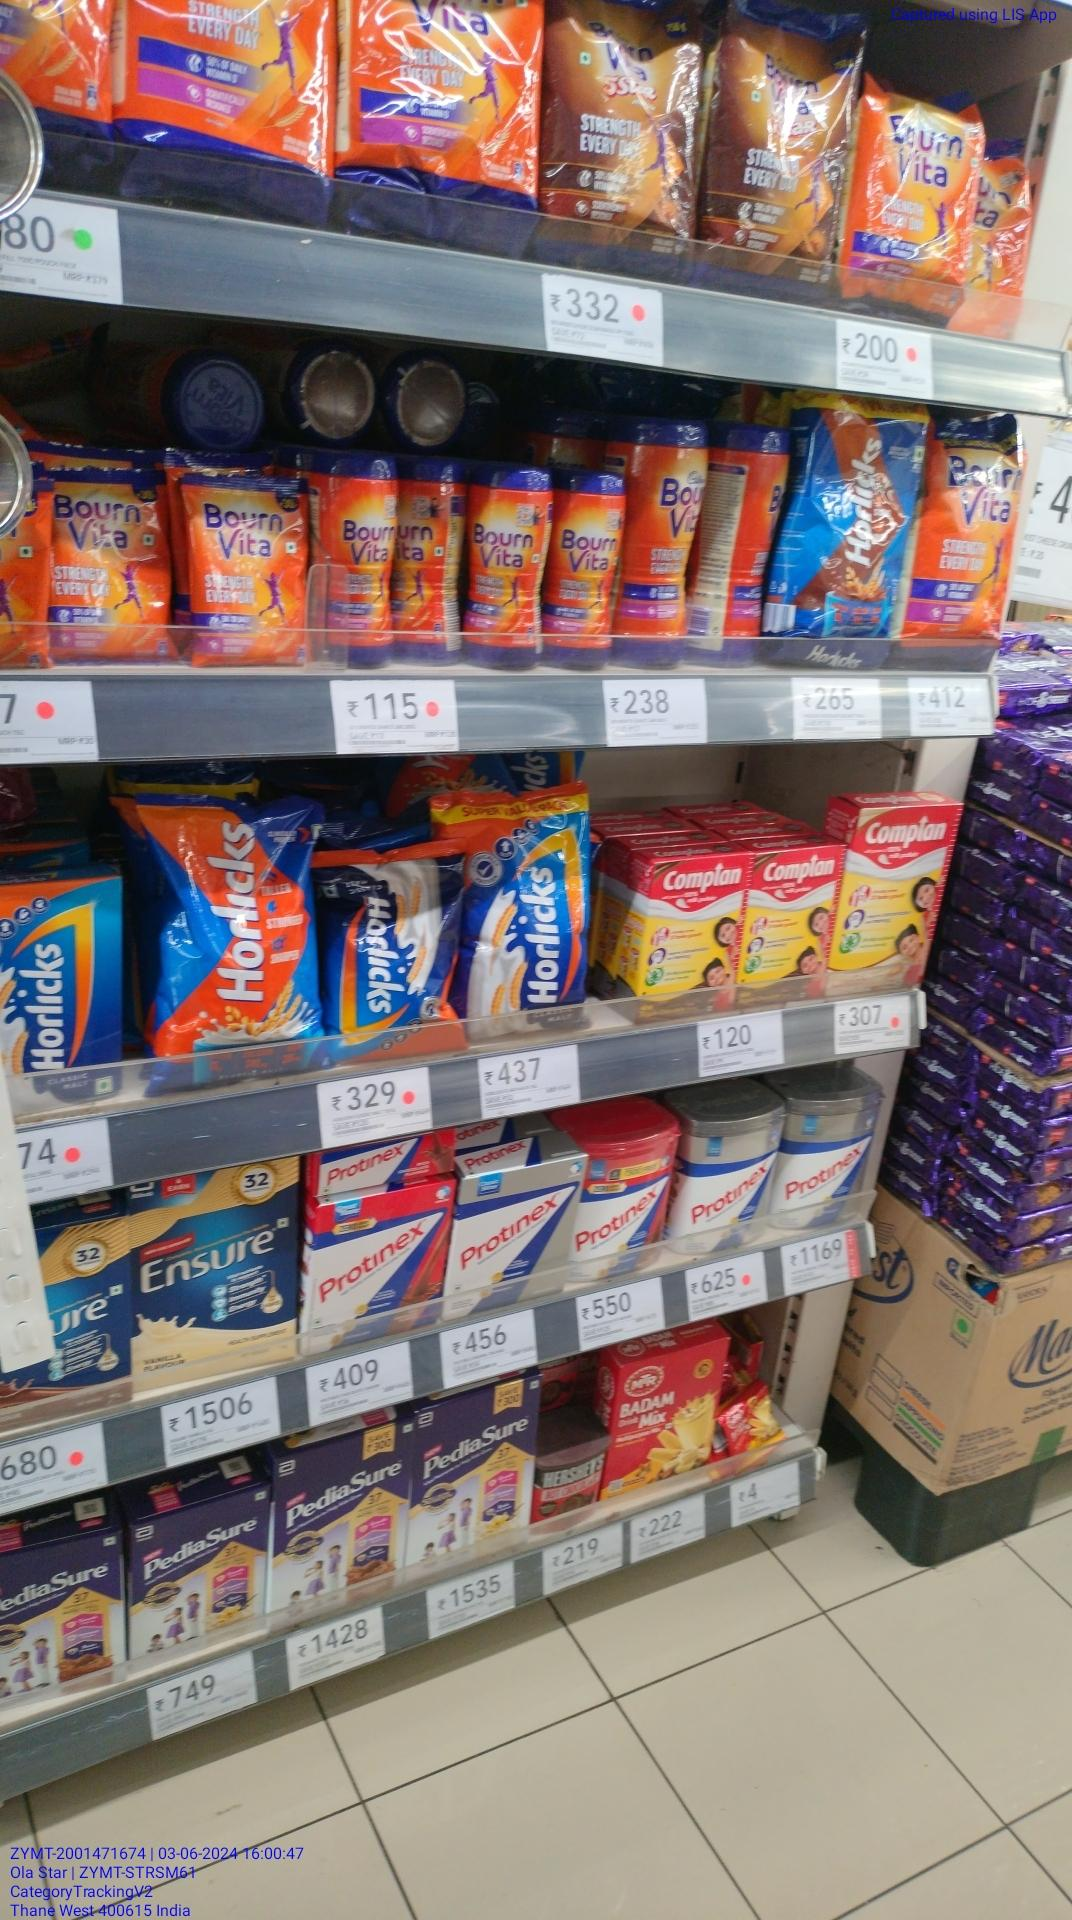BOURN_VITA_1_KG_JAR: (621, 418, 705, 649)
BOURN_VITA_200_G_JAR: (463, 471, 538, 662), (330, 464, 400, 662), (549, 484, 616, 655)
BOURN_VITA_750_G_POUCH: (345, 0, 541, 214), (857, 88, 968, 301), (916, 423, 1017, 653)
BOURN_VITA_75_G_POUCH: (181, 473, 306, 666), (59, 469, 171, 661)
BOURN_VITA_FIVE_STAR_MAGIC_750_G_POUCH: (549, 0, 707, 261), (723, 0, 847, 274)
COMPLAN_CHOCOLATE_200_GMS_PACK: (645, 852, 742, 1017), (746, 852, 828, 1001)
COMPLAN_KESAR_BADAM_500_GMS_PACK: (833, 808, 945, 997)
ENSURE_VANILLA_400_G_PACK: (132, 1180, 298, 1364)
HORLICK_CHOCOLATE_750_G_POUCH: (782, 385, 907, 641)
HORLICK_CLASSIC_MALT_500_G_PACK: (0, 884, 123, 1102)
HORLICK_CLASSIC_MALT_750_G_POUCH: (152, 793, 322, 1075), (326, 835, 462, 1058), (472, 795, 595, 1042)
PEDIASURE_CHOCOLATE_500_G_PACK: (274, 1461, 403, 1596), (0, 1547, 125, 1680)
PEDIASURE_VANILLA_500_G_PACK: (407, 1406, 529, 1536), (137, 1510, 266, 1631)
PROTINEX_CHOCOLATE_400_G_JAR: (583, 1147, 671, 1271)
PROTINEX_ORIGINAL_400_G_JAR: (778, 1098, 869, 1225), (682, 1126, 769, 1246)
